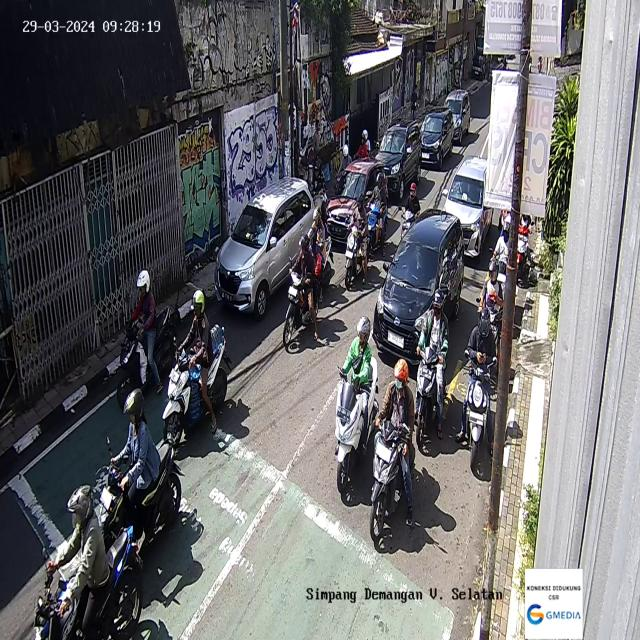car: (213, 176, 319, 321), (373, 208, 465, 366), (325, 157, 388, 248), (440, 155, 493, 259), (376, 117, 422, 202), (420, 106, 454, 168), (444, 90, 471, 142)
motorcycle: (33, 483, 143, 639), (97, 386, 183, 559), (162, 290, 232, 448), (115, 268, 178, 411), (369, 360, 414, 541), (334, 316, 379, 494), (462, 309, 498, 469), (414, 287, 450, 447), (282, 228, 321, 348), (299, 205, 335, 292), (476, 260, 503, 363), (344, 192, 367, 290), (366, 173, 388, 258), (489, 218, 511, 300), (398, 182, 420, 240), (517, 213, 534, 281), (309, 157, 328, 211), (334, 142, 352, 195), (354, 128, 372, 161)
